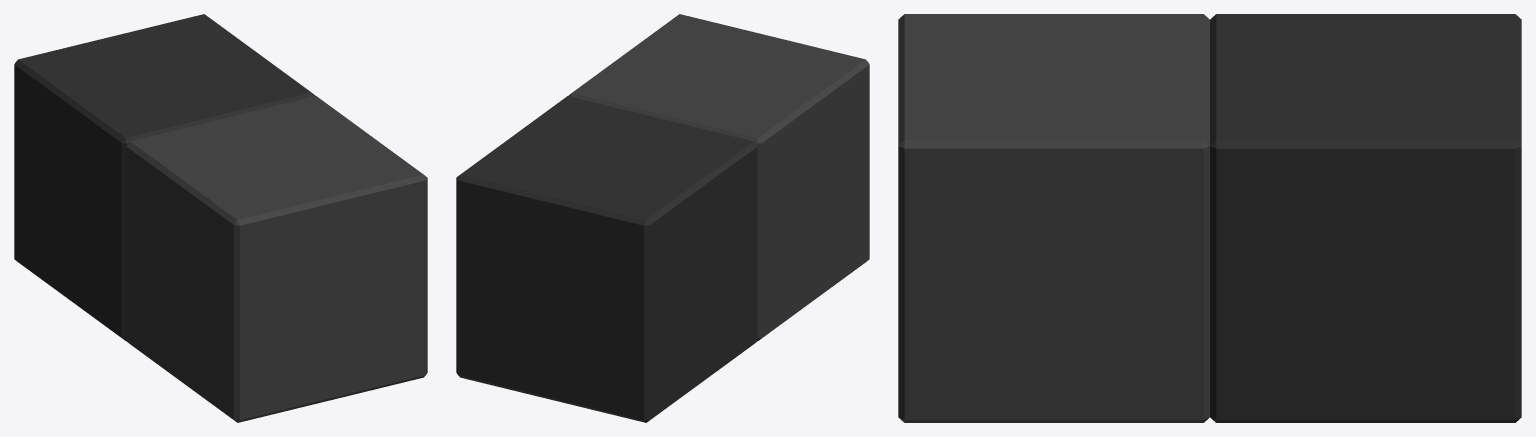
3 renders of one model, left to right at view 1: azimuth 30°, elevation 25°; view 2: azimuth 150°, elevation 25°; view 3: azimuth 270°, elevation 25°, orthographic. The views are drawn at different scales.
Parts seen in each view (by area): view 1: BlockS02__1_; view 2: BlockS02__1_; view 3: BlockS02__1_.
Part boxes in pixels (x1=…): BlockS02__1_: x1=14, y1=14, x2=427, y2=422; BlockS02__1_: x1=456, y1=14, x2=869, y2=422; BlockS02__1_: x1=898, y1=14, x2=1521, y2=422.
Size of the model in its own units: 39.37 by 39.37 by 78.74.
Materials: 1 (1 with a texture image).
